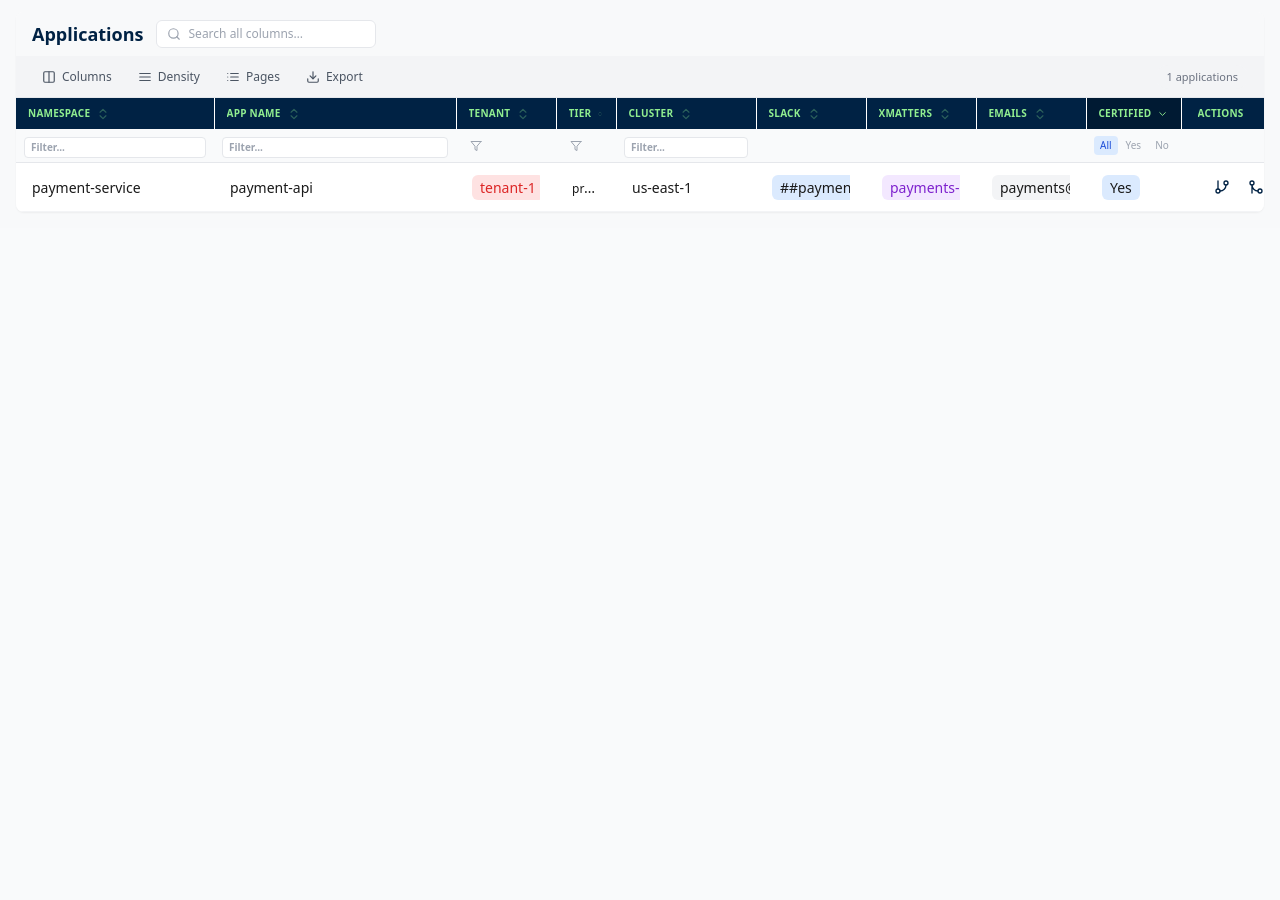
Test case: ApplicationsView › Loading spinner dark mode classes › loading spinner shows correct text for upstream in dark mode
This screenshot has width=1280, height=900.
Click the button titled "View upstream dependencies": x=1256, y=187 [1242,173,1270,201]
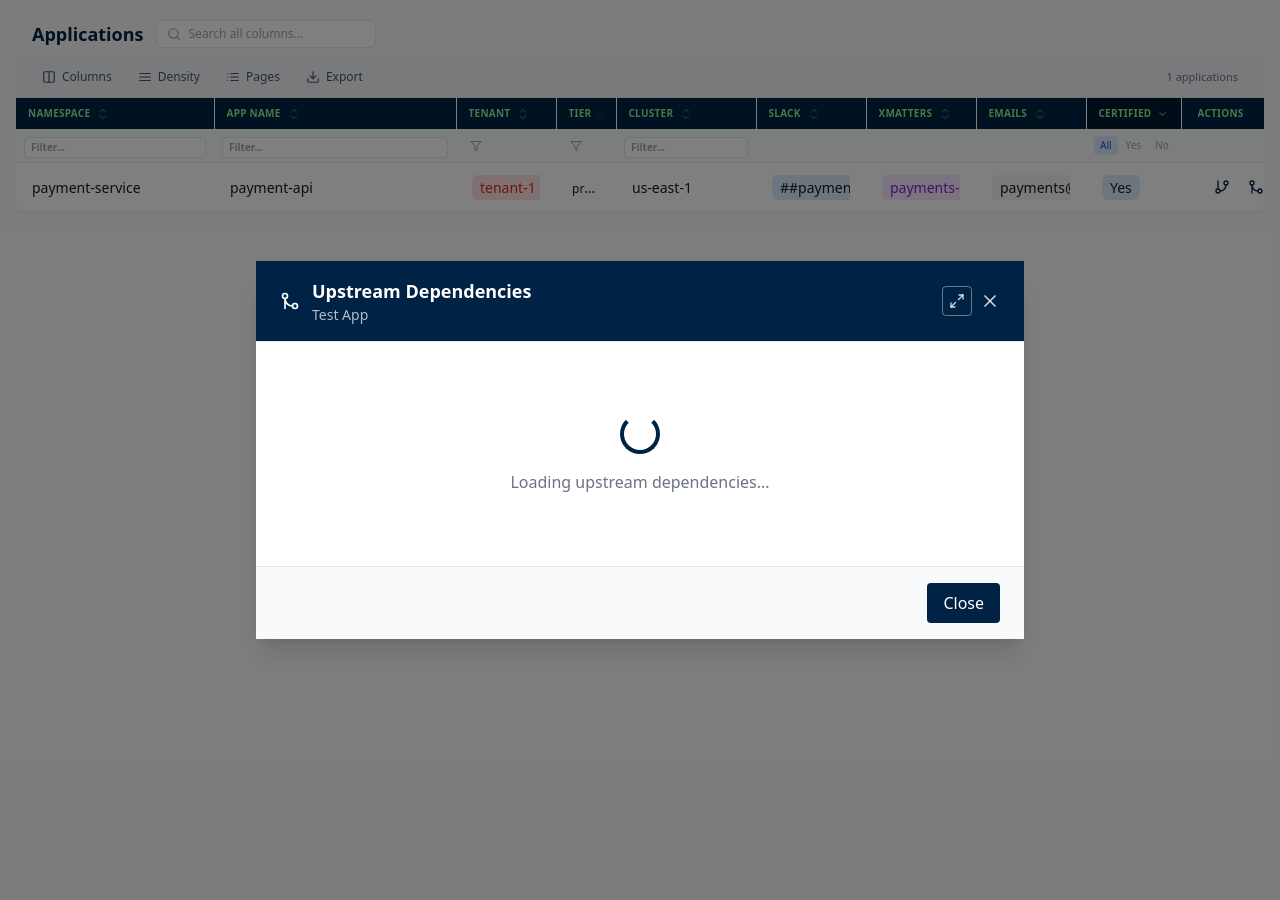
Expected: the text "Loading upstream dependencies..." is shown, [510,470,770,494]
